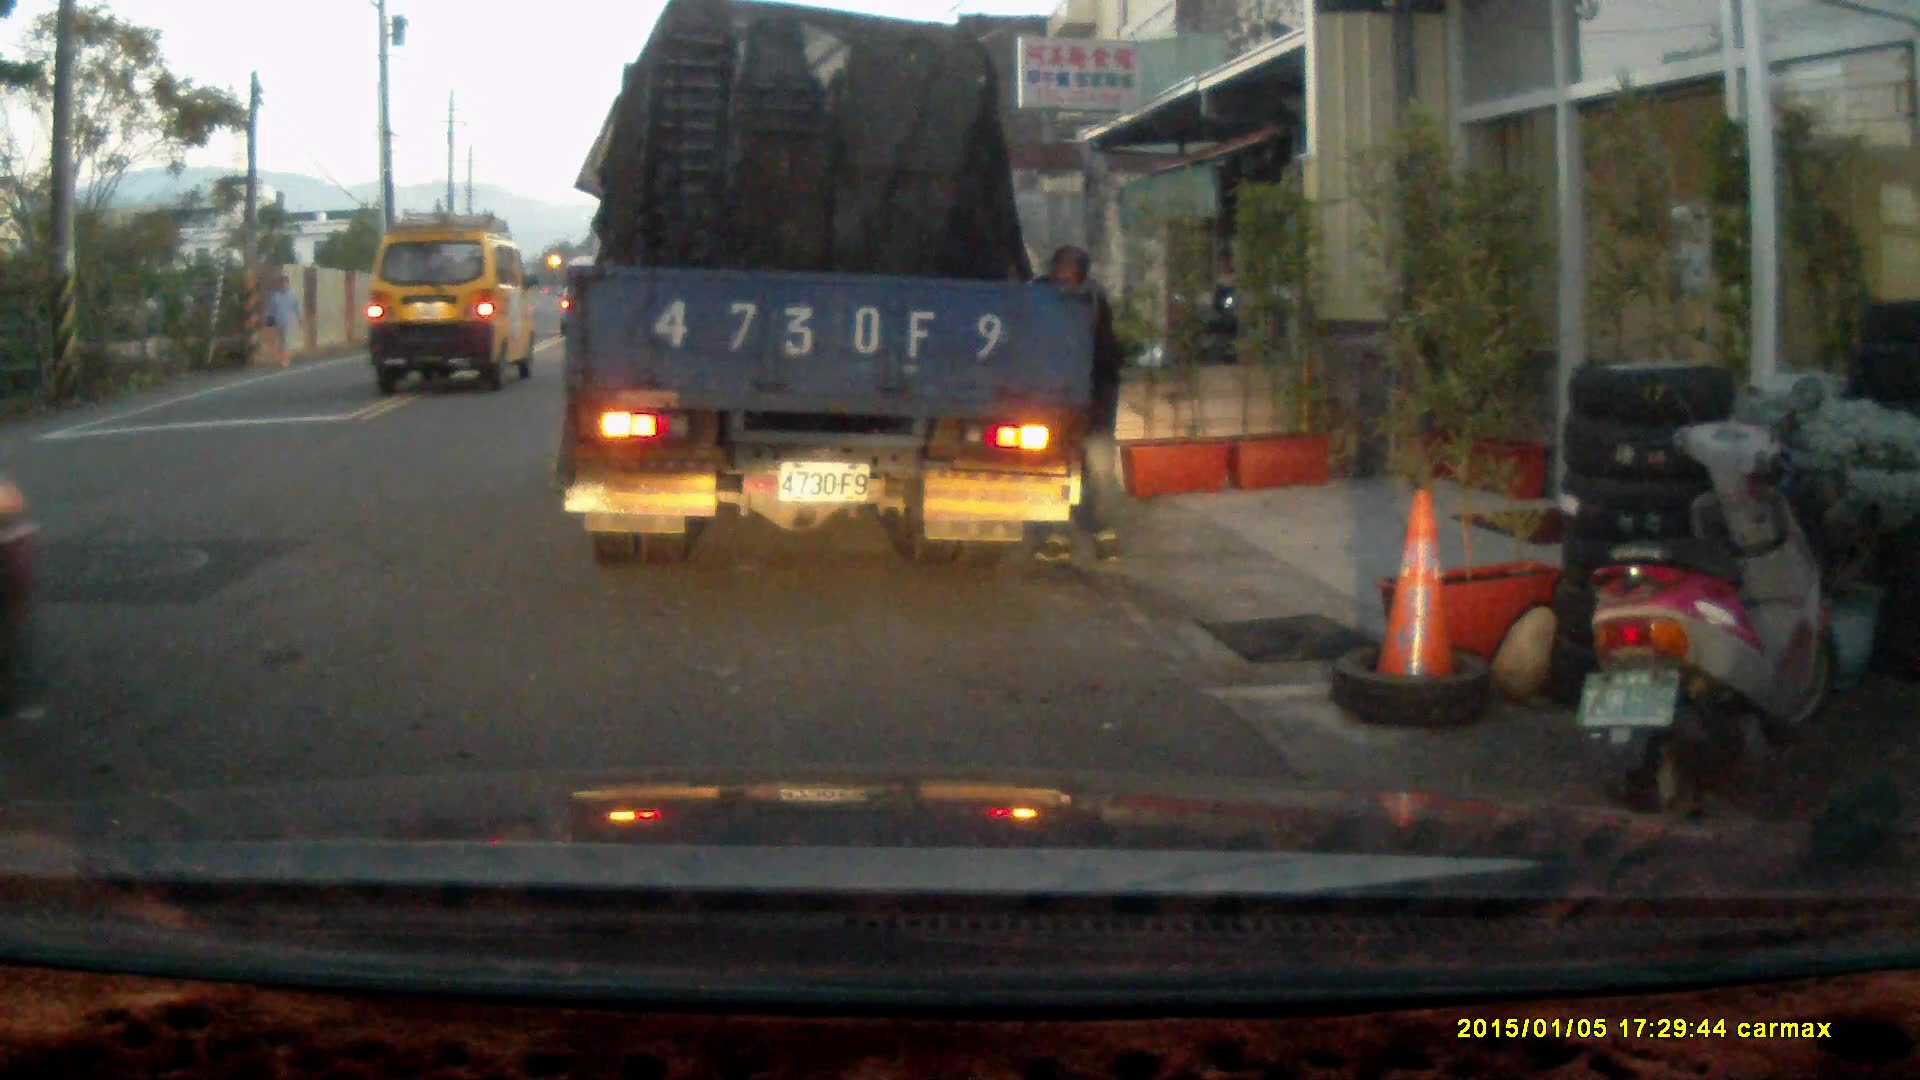pedestrian: (1019, 243, 1128, 570), (260, 276, 299, 368)
vehicle: (564, 23, 1093, 567), (365, 230, 543, 394)
